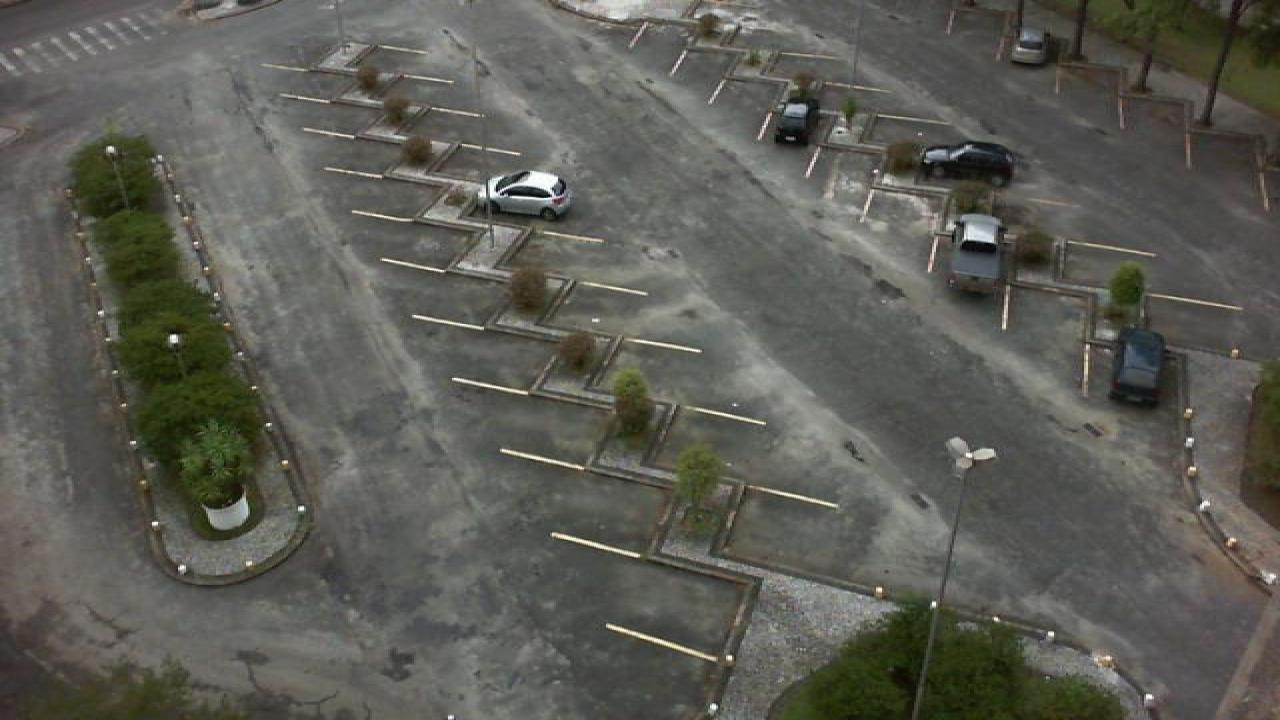Car: (944, 212, 1006, 292), (480, 168, 574, 220), (918, 140, 1018, 187), (1108, 325, 1166, 405), (770, 97, 820, 145), (1006, 27, 1048, 66)
